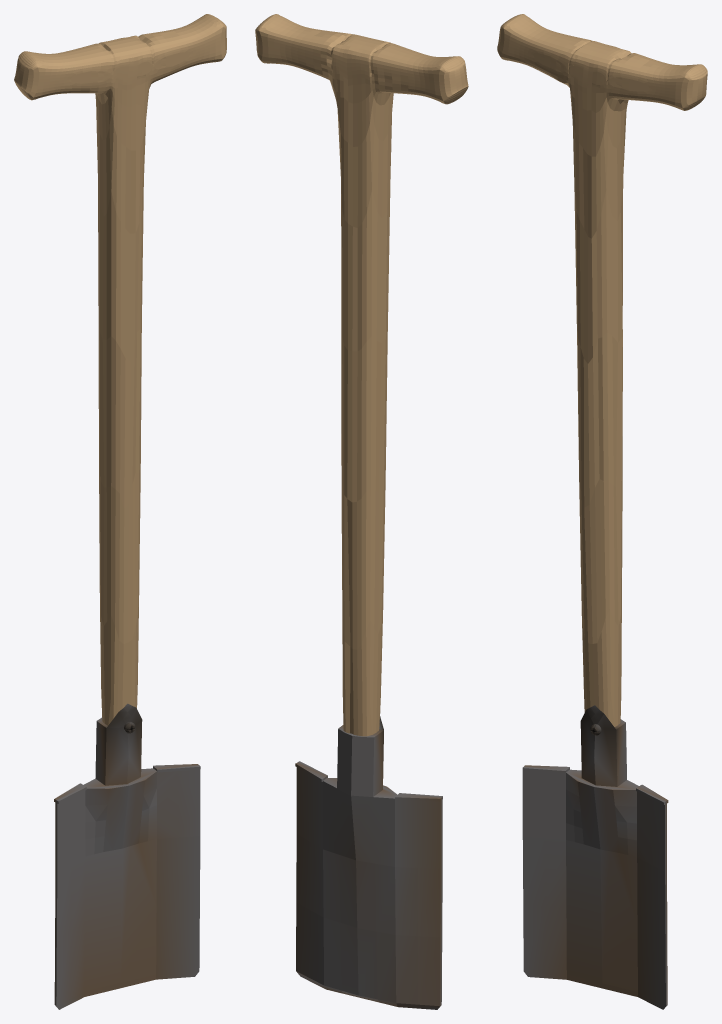
File: spade.glb
3 renders of one model, left to right at view 1: azimuth 30°, elevation 25°; view 2: azimuth 150°, elevation 25°; view 3: azimuth 330°, elevation 25°, orthographic.
Visible parts, largest first — view 1: spade; view 2: spade; view 3: spade.
Boxes of the visible parts, x1=… form: spade: x1=14, y1=14, x2=226, y2=1009; spade: x1=255, y1=14, x2=468, y2=1009; spade: x1=497, y1=14, x2=707, y2=1009.
Bounding box in the file's own units: 0.7624 × 3.42 × 0.1621.
